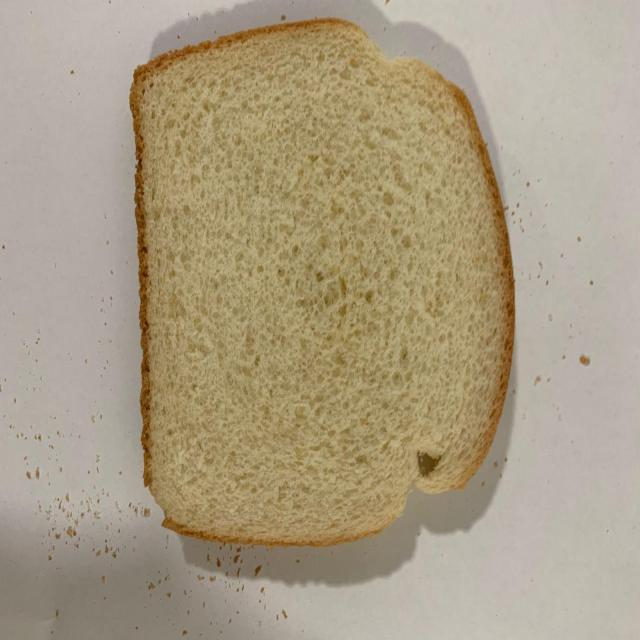sliced_bread: (129, 17, 515, 546)
